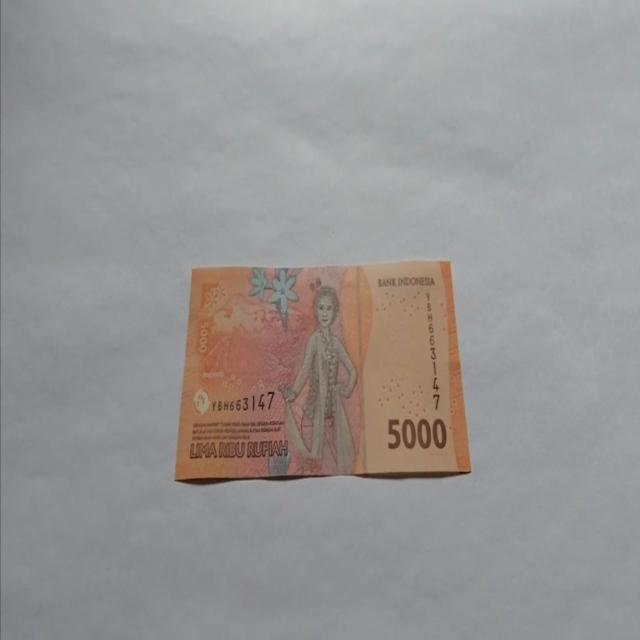lima ribu rupiah: (174, 258, 472, 482), (277, 284, 359, 476)
